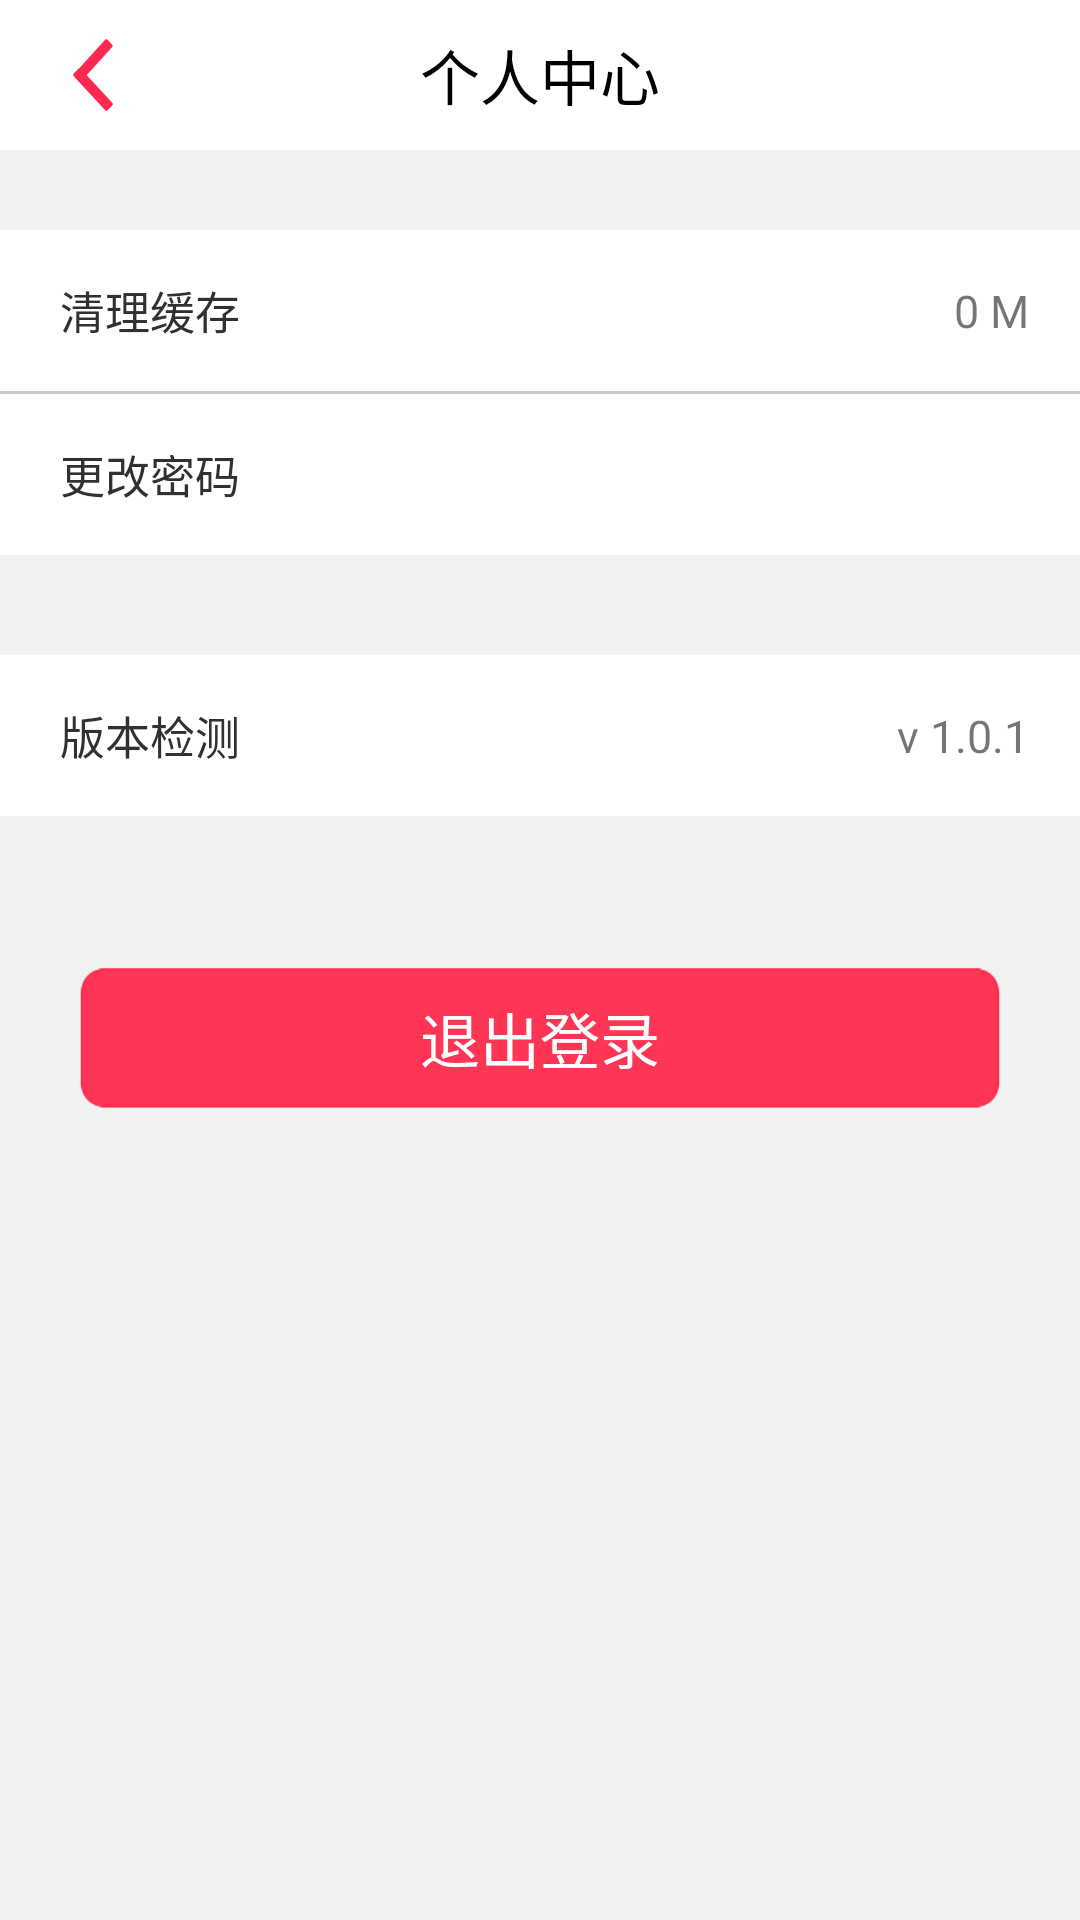

Where to tap for icons on this 1080*1920 app screen, as (x,y):
register back: (93,75)
